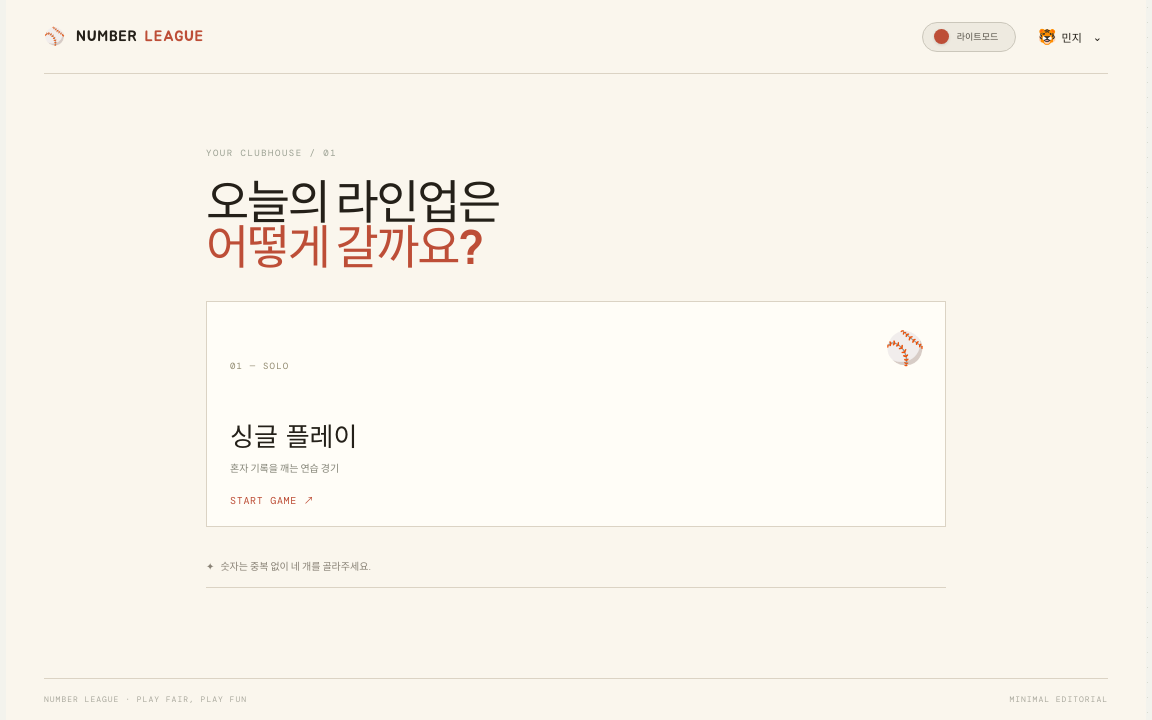
it: App — 전적 › 헤더 프로필을 누르면 전적 화면, 프로필 수정이 헤더에 반영된다
This screenshot has width=1152, height=720.
Click the button with aria-label "민지 전적 보기" at (1067, 36), box [1026,25,1108,48]
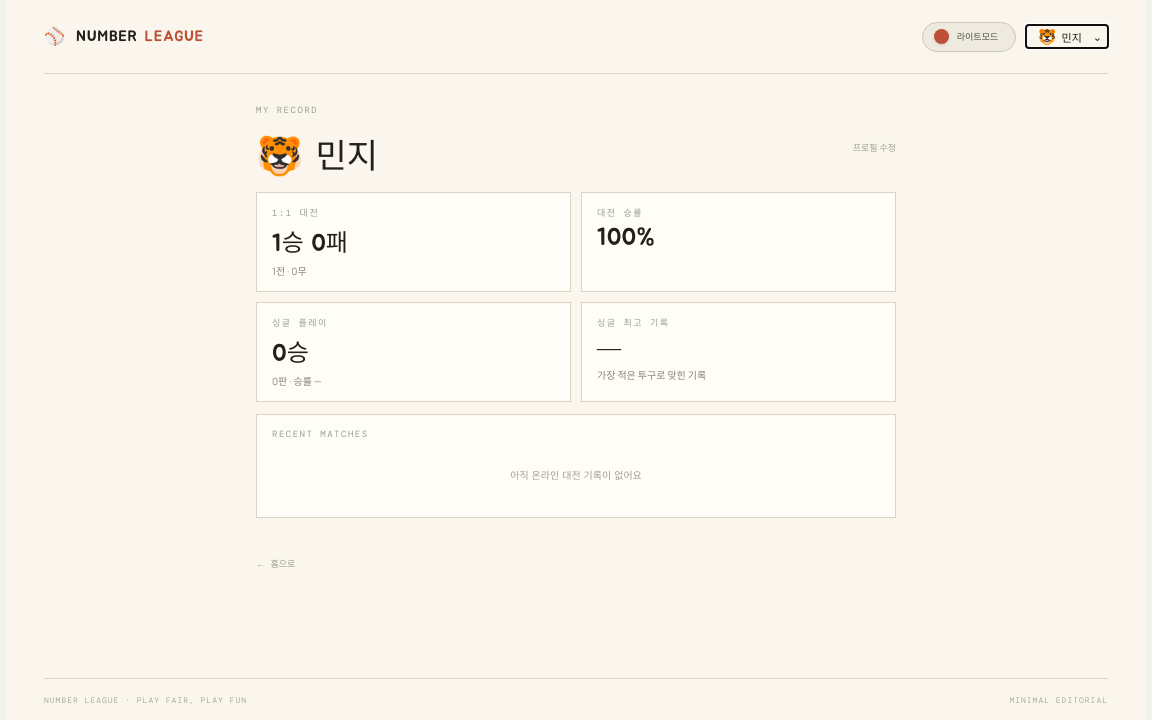
Now the text "1승 0패" is shown, box [272,232,348,256]
Click the button "프로필 수정" at (874, 148), box [853,128,896,167]
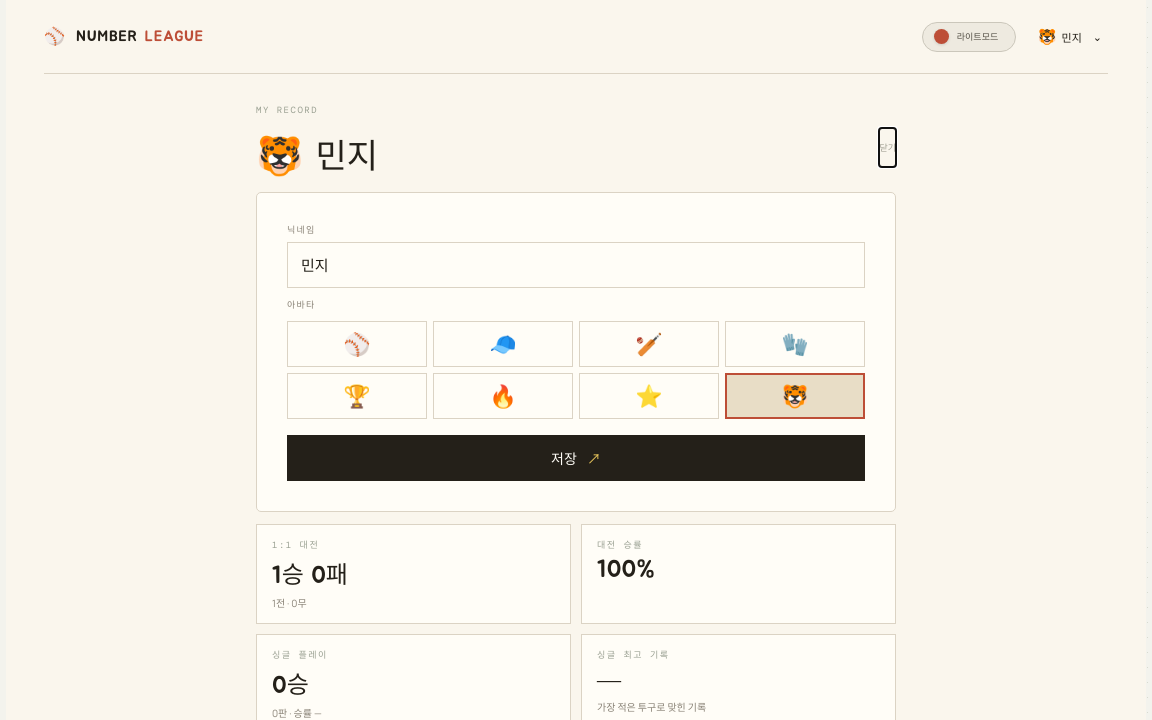
Replace the text in the field labelled "닉네임" with "민지짱" at (576, 265), box [287,242,865,288]
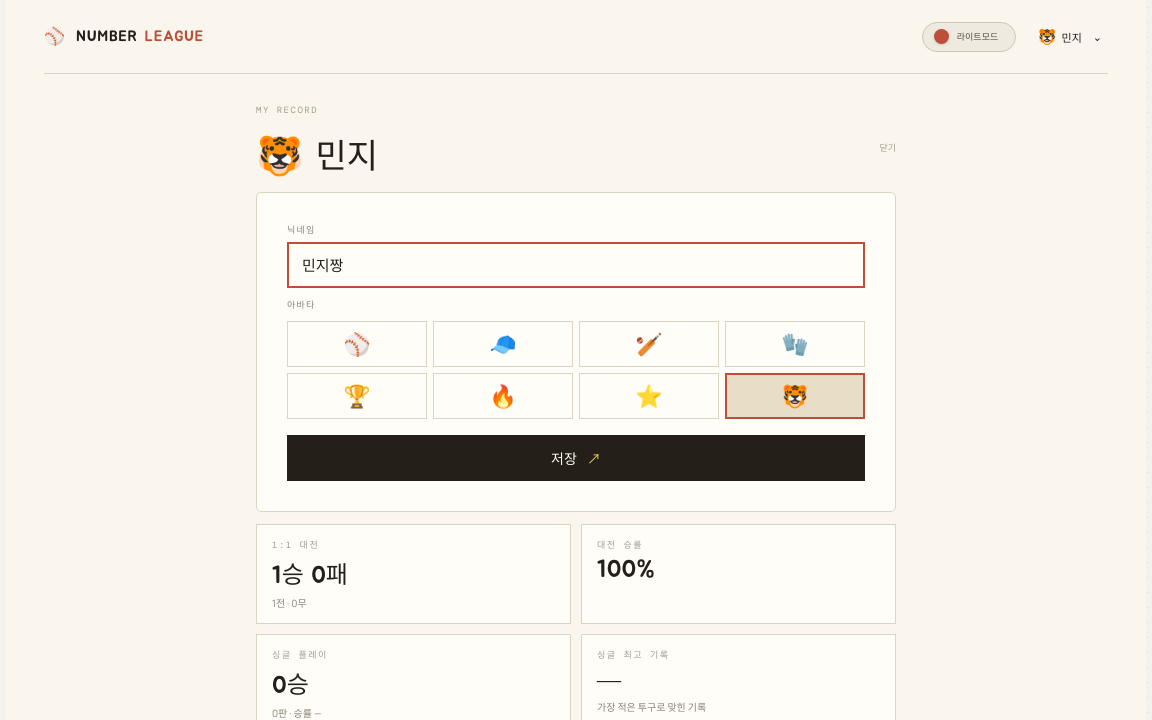
Click the button "저장↗" at (576, 458), box [287,435,865,481]
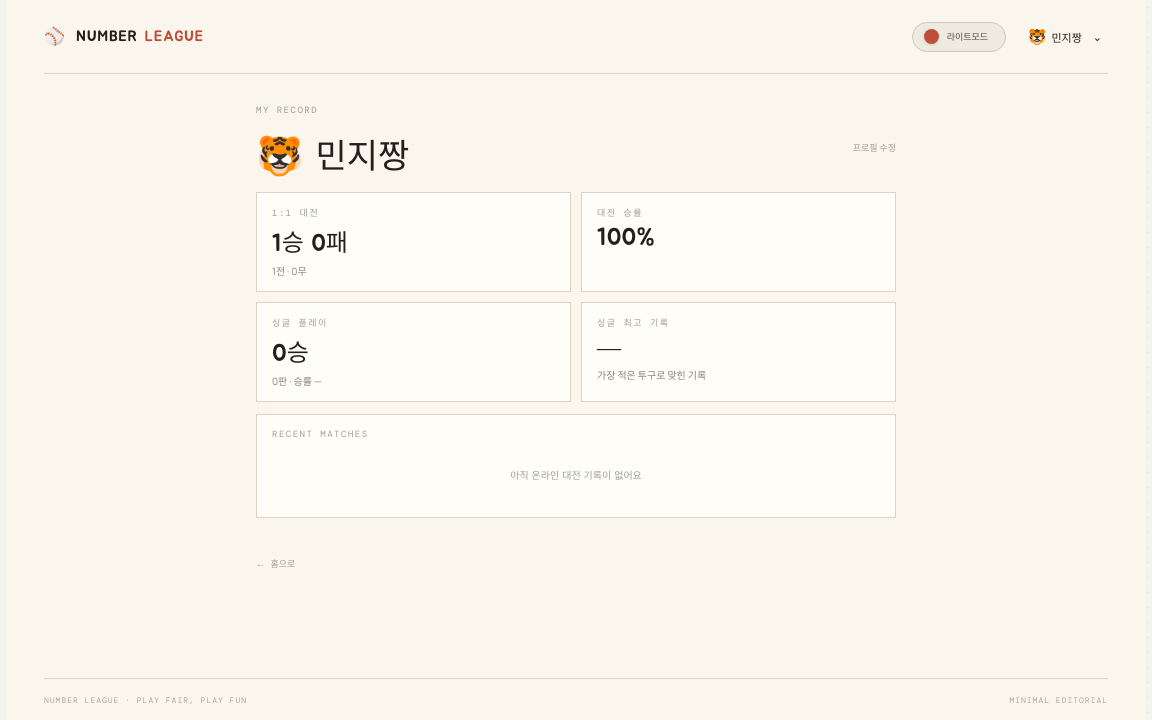
Now the button with aria-label "민지짱 전적 보기" is shown, box [1016,25,1108,48]
